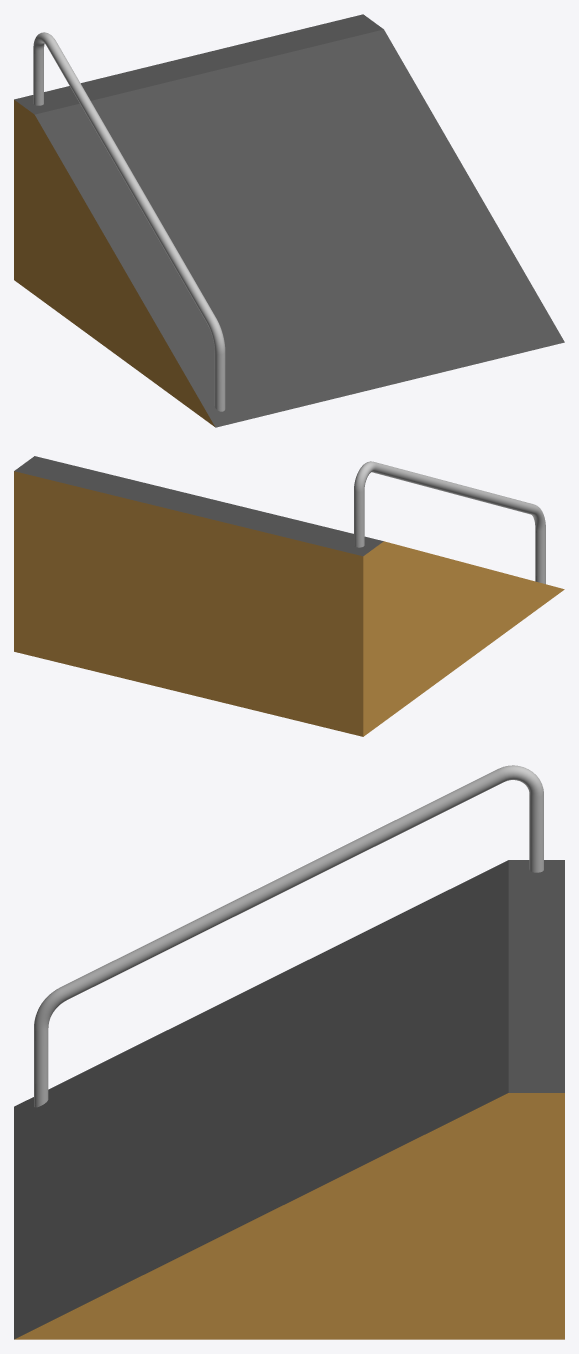
Rendered from Skate_Wedge_Handrail_Left_01.FBX.
The picture shows the model from 3 angles, top to bottom: view 1: azimuth 30°, elevation 25°; view 2: azimuth 150°, elevation 25°; view 3: azimuth 270°, elevation 25°; orthographic projection. The views are drawn at different scales.
Parts seen in each view (by area): view 1: Skate_Wedge_Handrail_Left_01; view 2: Skate_Wedge_Handrail_Left_01; view 3: Skate_Wedge_Handrail_Left_01.
Boxes of the visible parts, <box> form: Skate_Wedge_Handrail_Left_01: <box>14,14,564,427</box>; Skate_Wedge_Handrail_Left_01: <box>14,456,564,736</box>; Skate_Wedge_Handrail_Left_01: <box>14,765,564,1339</box>.
Bounding box in the file's own units: 3 × 2.1 × 3.
